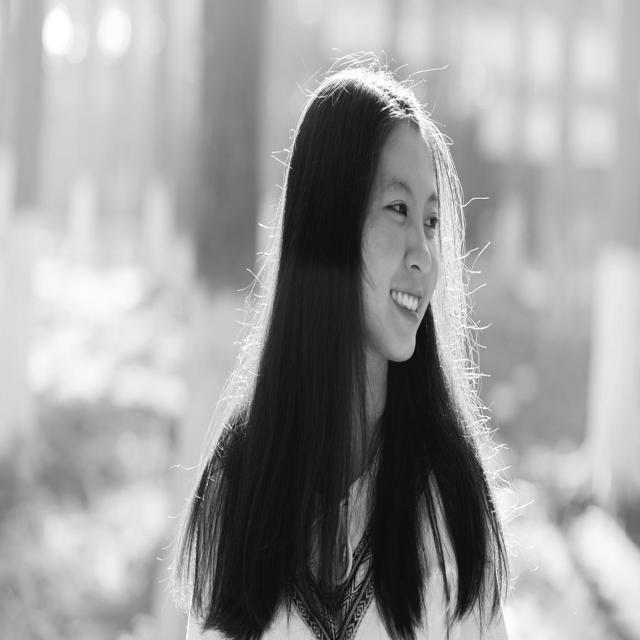Happiness: (352, 116, 448, 366)
